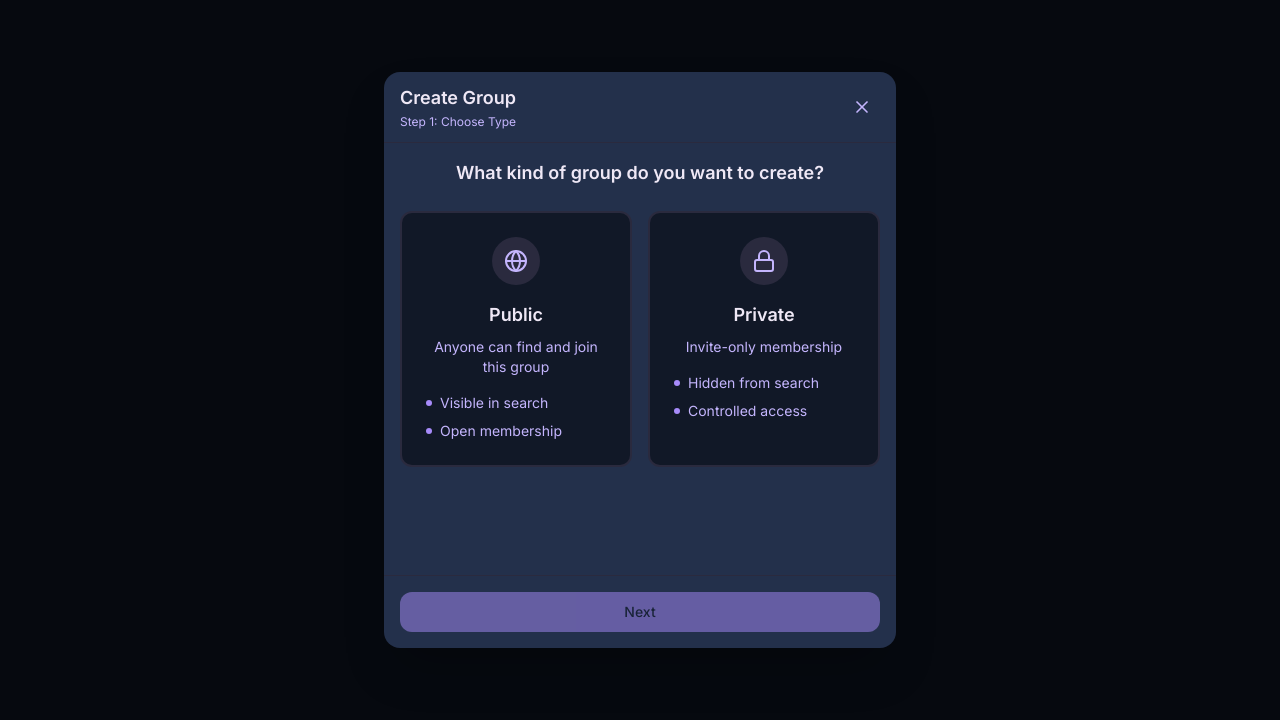
Scenario: GroupCreationWizard › Flow navigation › navigates to details after type selection for public group
The width and height of the screenshot is (1280, 720).
Select Public type
Click the option "Public". click: (516, 339)
box: [400,211,632,467]
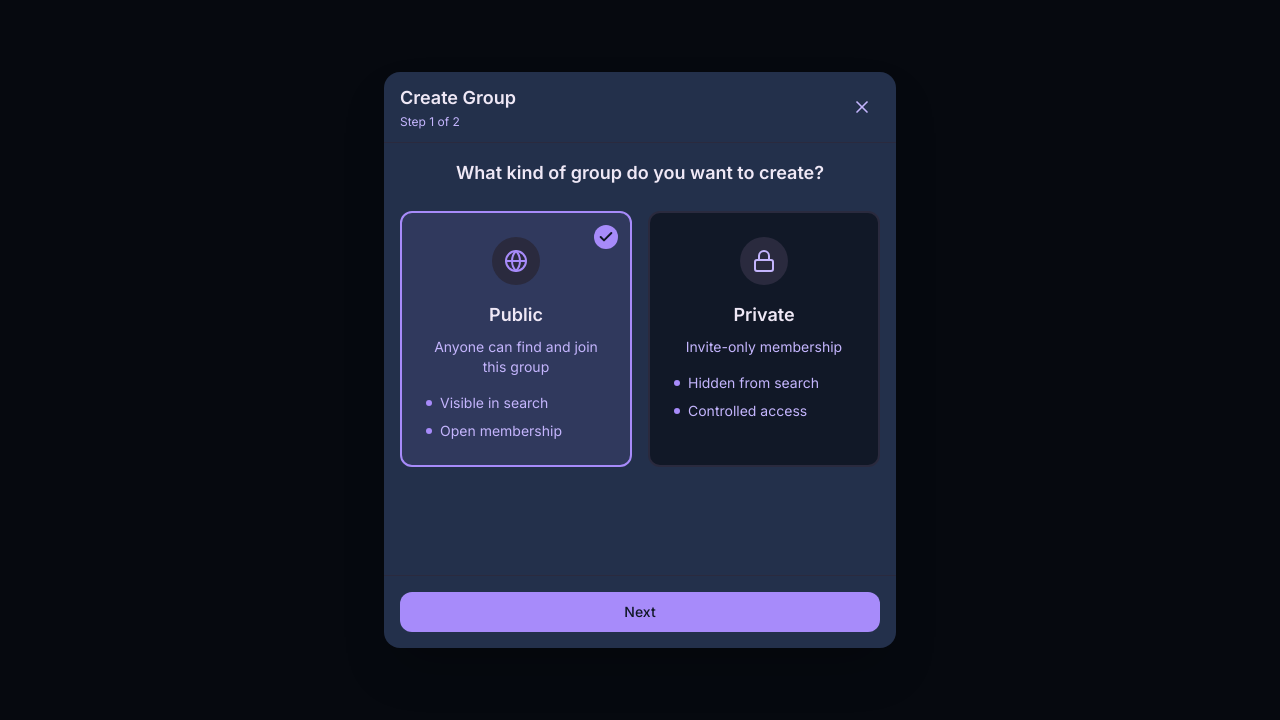
Click Next button
Click the button with aria-label "proceed to next step". click: (640, 612)
box: [400,592,880,632]
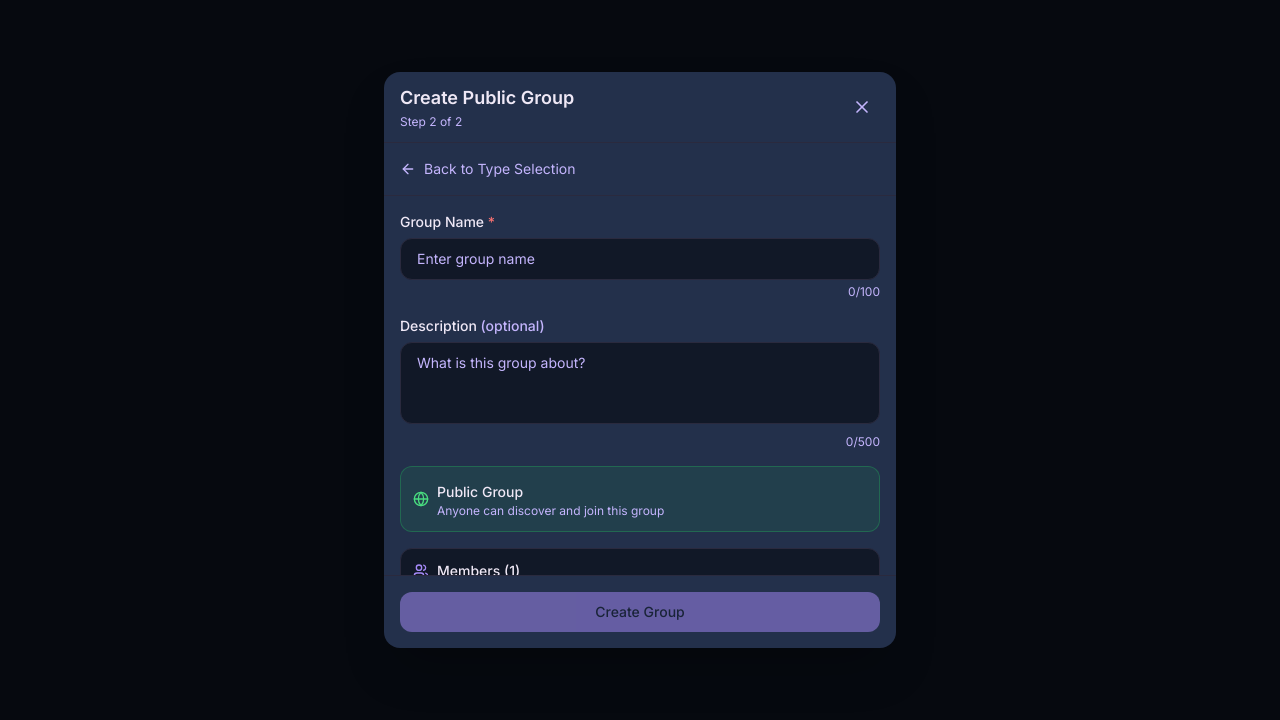
Expected: the heading "Create Public Group" is shown, [400,84,574,112]
Expected: the field labelled "Group Name *" is shown, [400,238,880,280]
